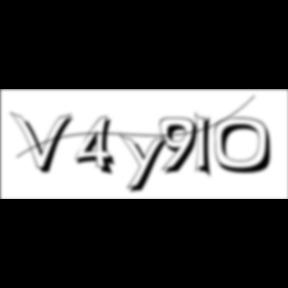4: (74, 115, 122, 179)
9: (160, 117, 204, 177)
I: (195, 110, 219, 182)
O: (214, 117, 278, 176)
V: (11, 110, 78, 176)
y: (120, 132, 174, 196)
